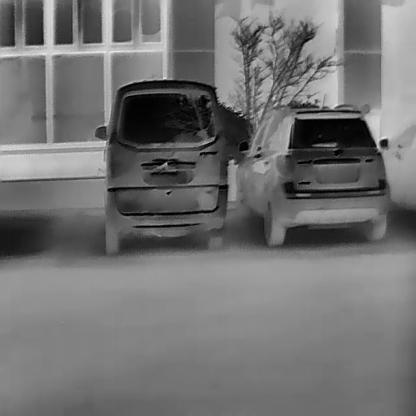car: (91, 76, 229, 254), (235, 101, 388, 247), (379, 119, 415, 210)
